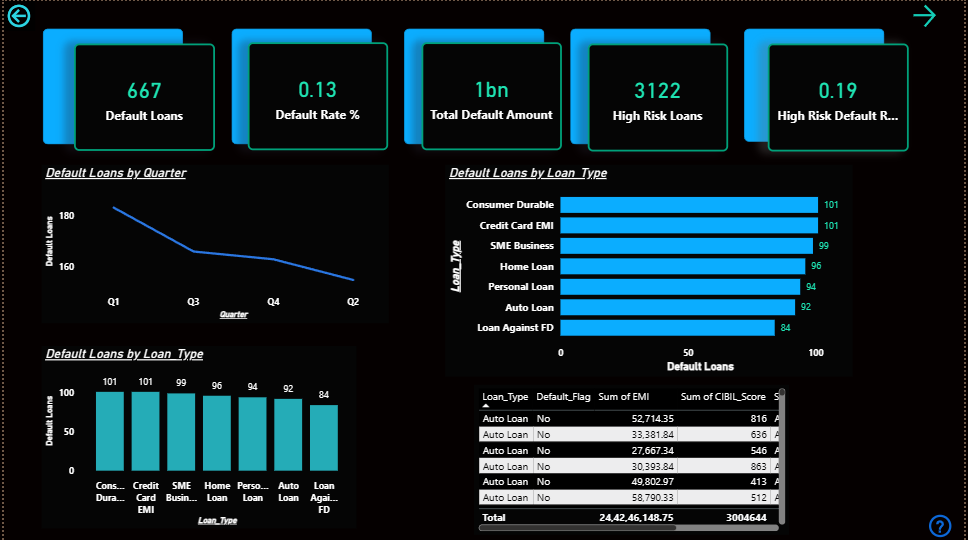

This screenshot's page, from the dashboard's own definition file:
{"tool":"powerbi","page":{"name":"Risk & Defaults","canvas":[1280,720],"ordinal":2},"visuals":[{"type":"shape","box":[51.2,36,187.2,154.7],"z":0},{"type":"shape","box":[303.5,36,187.2,154.7],"z":1000},{"type":"shape","box":[533.7,36,187.2,154.7],"z":2000},{"type":"shape","box":[755.8,36,187.2,154.7],"z":3000},{"type":"shape","box":[986,36,187.2,151.2],"z":4000},{"type":"actionButton","box":[0,0,100,40],"z":5000},{"type":"card","fields":{"Values":["Customer_Loans.Default Loans"]},"box":[93,57,188.4,143],"z":6000},{"type":"card","fields":{"Values":["Customer_Loans.High Risk Loans"]},"box":[779.1,57,187.2,144.2],"z":7000},{"type":"card","fields":{"Values":["Customer_Loans.Total Default Amount"]},"box":[557,55.8,187.2,144.2],"z":8000},{"type":"card","fields":{"Values":["Customer_Loans.Default Rate %"]},"box":[325.6,55.8,187.2,144.2],"z":9000},{"type":"card","fields":{"Values":["Customer_Loans.High Risk Default Rate %"]},"box":[1018.6,57,188.4,144.2],"z":10000},{"type":"lineChart","fields":{"Y":["Customer_Loans.Default Loans"],"Category":["DimDate.Quarter"]},"box":[50,217.6,463.5,210.8],"z":11000},{"type":"barChart","fields":{"Category":["Customer_Loans.Loan_Type"],"Y":["Customer_Loans.Default Loans"]},"box":[587.8,217.6,543.2,282.4],"z":12000},{"type":"columnChart","fields":{"Category":["Customer_Loans.Loan_Type"],"Y":["Customer_Loans.Default Loans"]},"box":[50,459.5,420.3,243.2],"z":13000},{"type":"tableEx","fields":{"Values":["Customer_Loans.Loan_Type","Customer_Loans.Default_Flag","Sum(Customer_Loans.EMI)","Sum(Customer_Loans.CIBIL_Score)","Customer_Loans.Status","Customer_Loans.City","Customer_Loans.Customer_ID"]},"box":[627,512.2,420.3,200],"z":14000},{"type":"actionButton","box":[0,0,41.9,39.5],"z":15000},{"type":"actionButton","box":[1206.4,0,73.6,39.9],"z":16000},{"type":"actionButton","box":[1227.6,680.1,52.4,39.9],"z":22000}]}

Visuals, with their boxes in screenshot pixels (x1, y1, x2, y2), scaled from the page's 1280x720 canvas onto the 968x540 screenshot:
shape: 39, 27, 180, 143
shape: 230, 27, 371, 143
shape: 404, 27, 545, 143
shape: 572, 27, 713, 143
shape: 746, 27, 887, 140
actionButton: 0, 0, 76, 30
card - Customer_Loans.Default Loans: 70, 43, 213, 150
card - Customer_Loans.High Risk Loans: 589, 43, 731, 151
card - Customer_Loans.Total Default Amount: 421, 42, 563, 150
card - Customer_Loans.Default Rate %: 246, 42, 388, 150
card - Customer_Loans.High Risk Default Rate %: 770, 43, 913, 151
lineChart - Customer_Loans.Default Loans x DimDate.Quarter: 38, 163, 388, 321
barChart - Customer_Loans.Loan_Type x Customer_Loans.Default Loans: 445, 163, 855, 375
columnChart - Customer_Loans.Loan_Type x Customer_Loans.Default Loans: 38, 345, 356, 527
tableEx - Customer_Loans.Loan_Type x Customer_Loans.Default_Flag: 474, 384, 792, 534
actionButton: 0, 0, 32, 30
actionButton: 912, 0, 967, 30
actionButton: 928, 510, 967, 539
